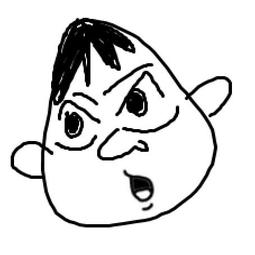ear: (190, 71, 235, 116), (9, 136, 50, 179)
eye: (120, 70, 182, 135), (44, 97, 101, 155)
frowning_eyebrow: (102, 61, 155, 94), (71, 89, 97, 107)
nose: (94, 128, 156, 160)
open_mouth: (126, 174, 156, 200)
